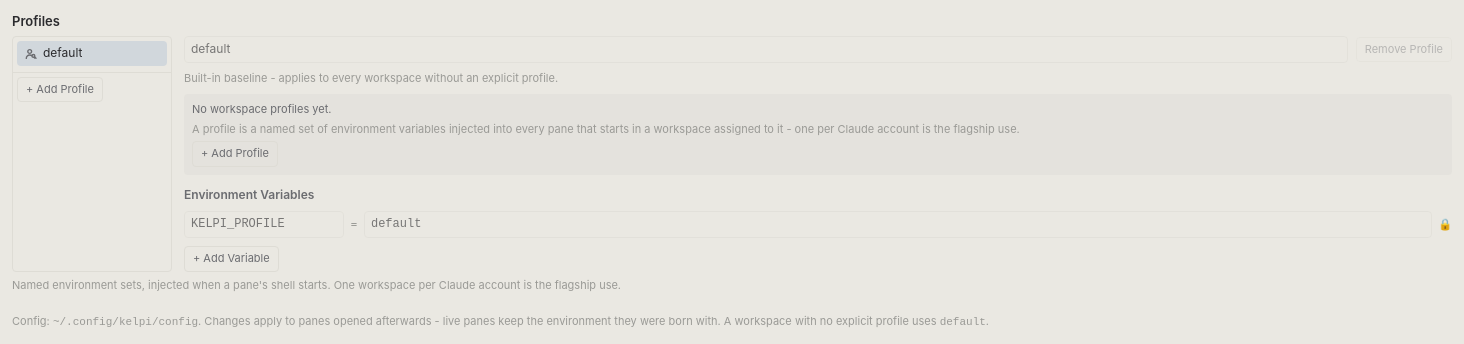
Test case: L92 — the Profiles detail placeholder › titles itself as a headline, over a 360 px explanation
// Deselect: the placeholder is the no-selection state (§SET-080).
Click the list with test id "profiles-list".
click(92, 154)  # box [12, 36, 172, 272]
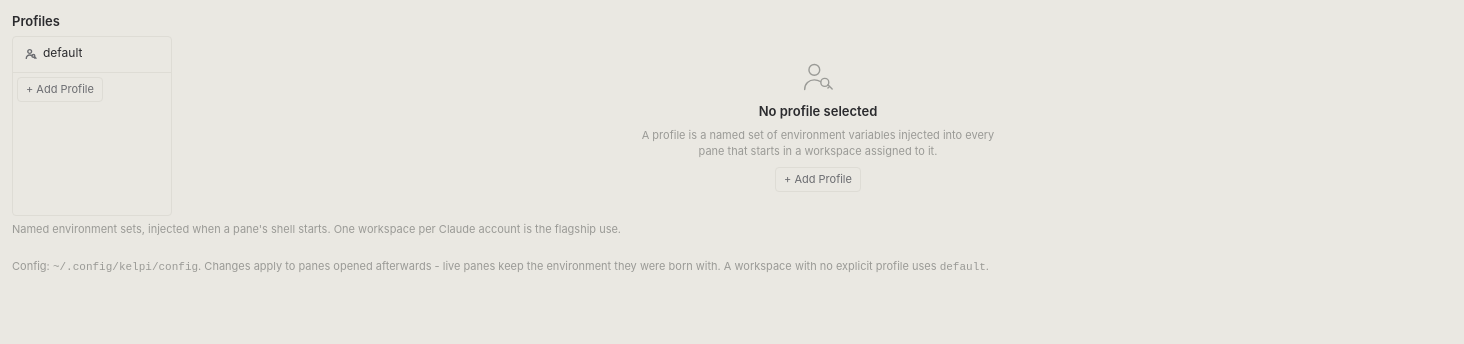
expect the text with test id "profile-detail-placeholder-title" reads "No profile selected": met, box [759, 103, 877, 119]
expect the text with class "max-w-" is shown: met, box [638, 128, 998, 159]
